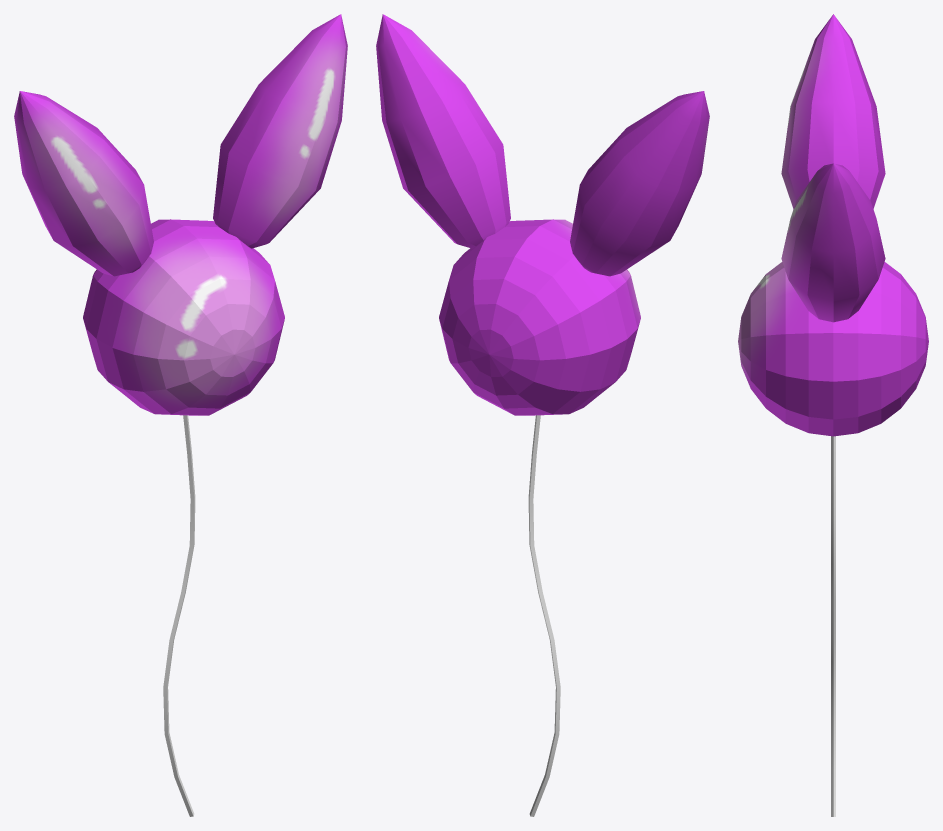
File: Balloon001.fbx
3 renders of one model, left to right at view 1: azimuth 30°, elevation 25°; view 2: azimuth 150°, elevation 25°; view 3: azimuth 270°, elevation 25°, orthographic. The views are drawn at different scales.
Parts seen in each view (by area): view 1: polySurface8; view 2: polySurface8; view 3: polySurface8.
Part boxes in pixels (box(x1,y1,x2,y2)): polySurface8: box(14, 14, 347, 816); polySurface8: box(376, 14, 709, 816); polySurface8: box(738, 14, 928, 816).
Bounding box in the file's own units: 0.6807 × 1.52 × 0.3638.
1 material, 1 textured.
